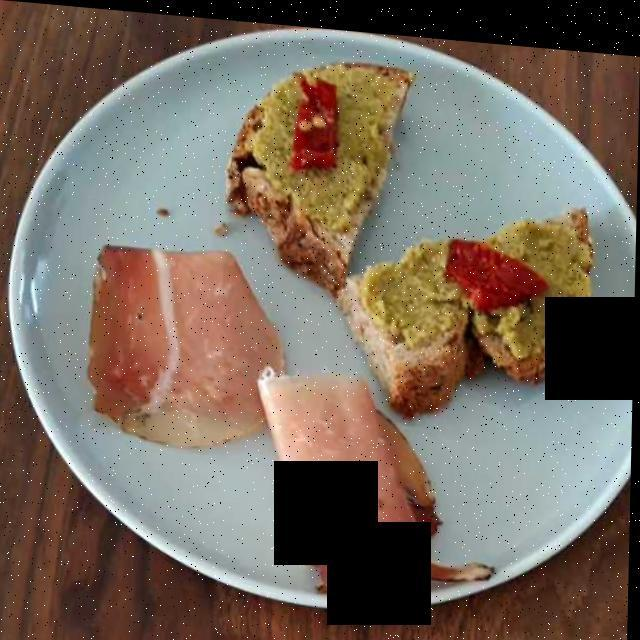bread: (219, 48, 609, 394)
ham: (86, 217, 451, 583)
tomato: (307, 70, 549, 300)
